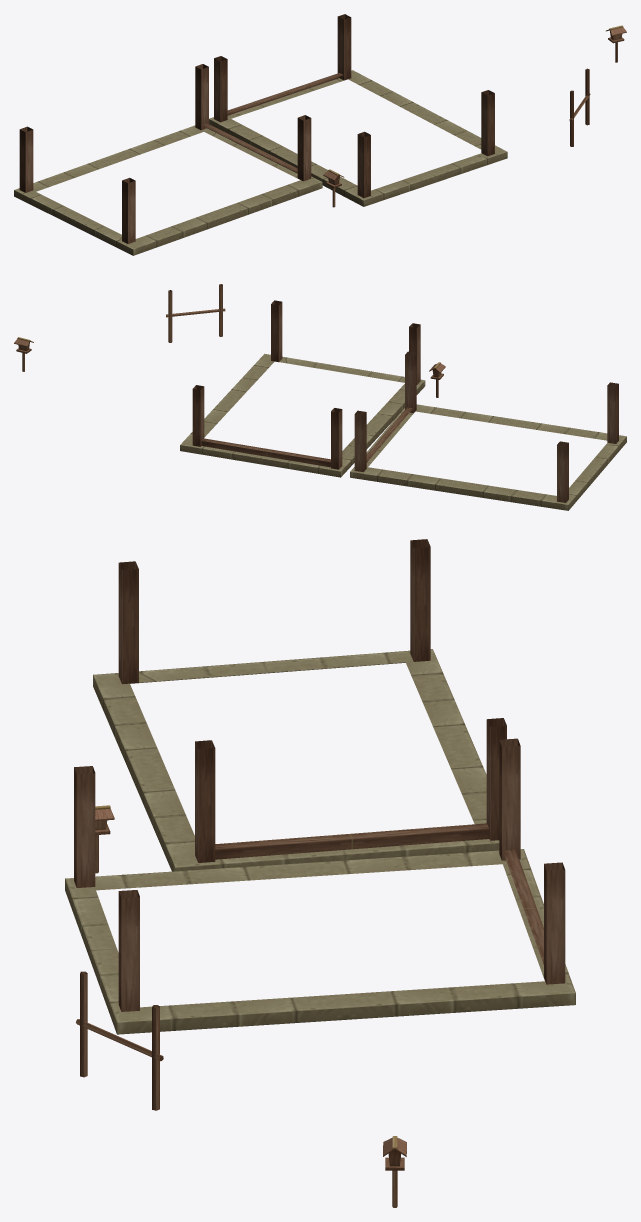
File: Area_06_27.fbx
3 renders of one model, top to bottom at view 1: azimuth 30°, elevation 25°; view 2: azimuth 150°, elevation 25°; view 3: azimuth 270°, elevation 25°, orthographic. The views are drawn at different scales.
Parts seen in each view (by area): view 1: Area_06_27; view 2: Area_06_27; view 3: Area_06_27.
Boxes of the visible parts, x1,y1,x2,y2 form: Area_06_27: [14, 14, 626, 255]; Area_06_27: [14, 284, 626, 510]; Area_06_27: [65, 539, 575, 1207].
Bounding box in the file's own units: 4007 × 447 × 1580.
